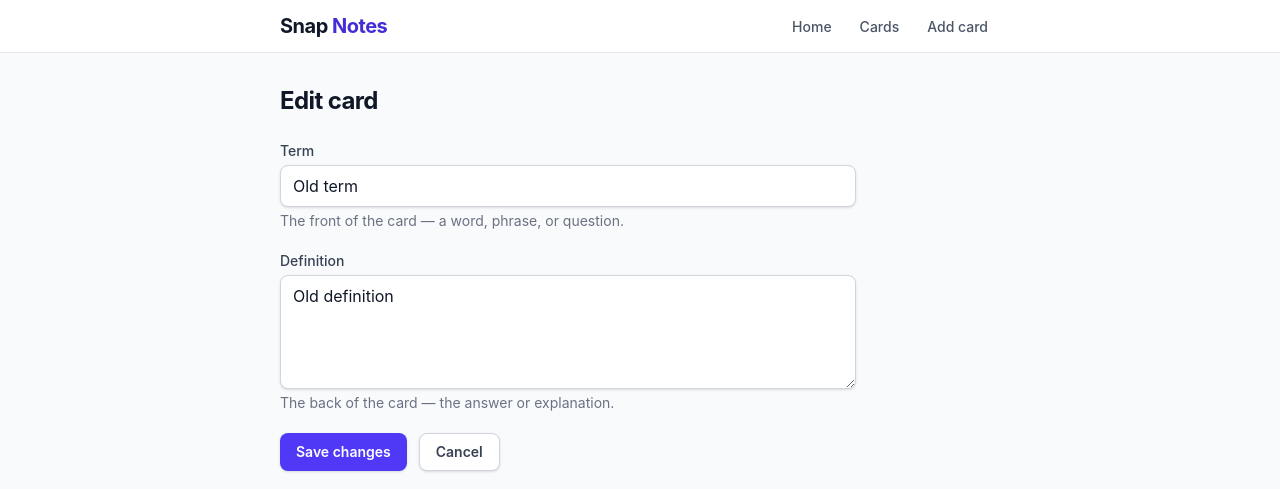
Test: CardFormPage › edits a card, preserving its id and creation time and updating updatedAt
This screenshot has width=1280, height=489.
Check: the text box labelled "Definition" holds "Old definition", box 280,275 -> 856,389
Replace the text in the field labelled "Term" with "New term": (568,186) 280,165 -> 856,207
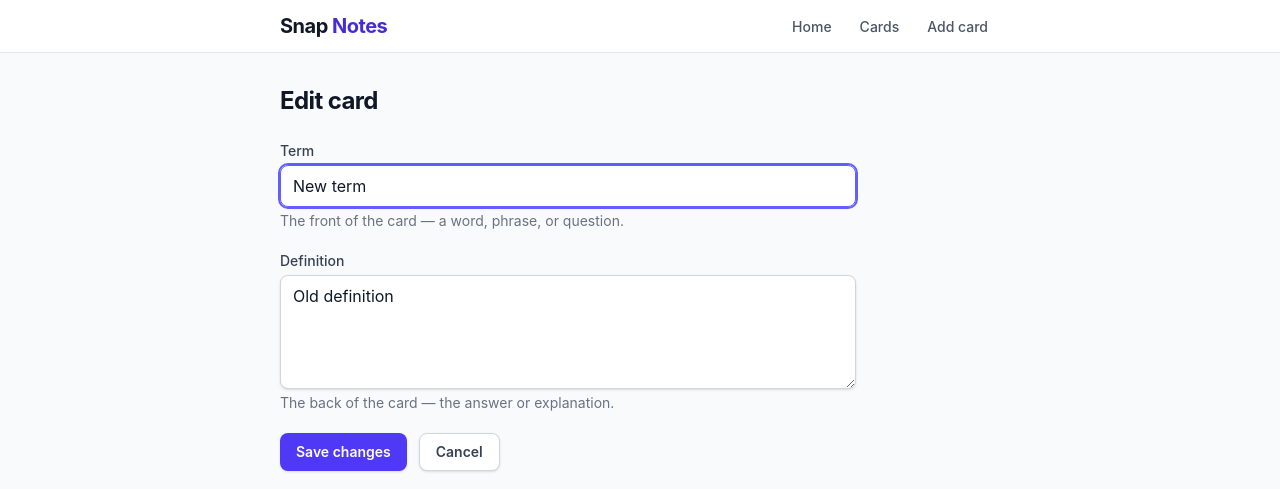
Click the button "Save changes": (343,452) 280,433 -> 407,471
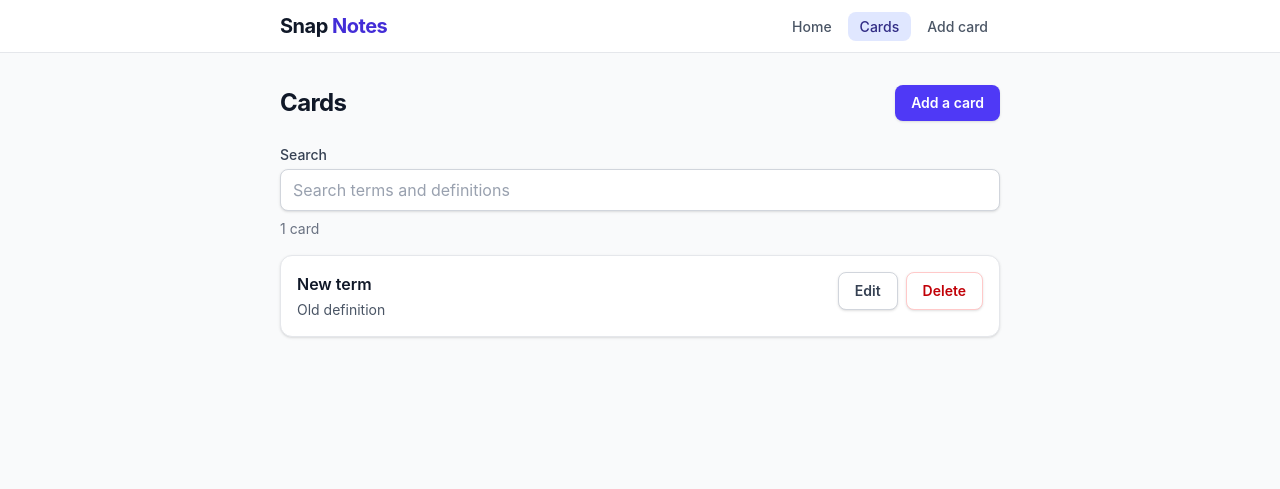
Check: the heading "Cards" is shown, box 280,87 -> 346,119
Check: the heading "New term" is shown, box 297,274 -> 372,294
